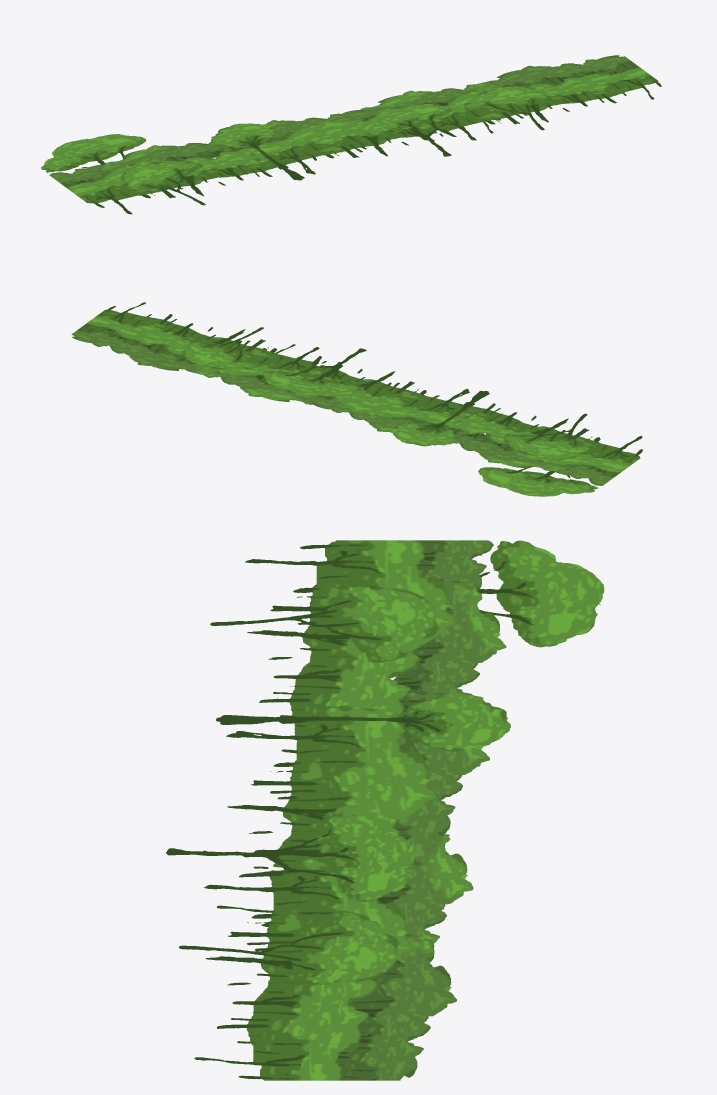
The model's file is forest.FBX.
3 views of the same model, one above another, from view 1: azimuth 30°, elevation 25°; view 2: azimuth 150°, elevation 25°; view 3: azimuth 270°, elevation 25° (orthographic). The views are drawn at different scales.
Visible parts, largest first — view 1: Plane001; view 2: Plane001; view 3: Plane001.
Boxes of the visible parts, left/top/right/bottom form: Plane001: left=41, top=55, right=661, bottom=214; Plane001: left=71, top=302, right=642, bottom=496; Plane001: left=166, top=540, right=604, bottom=1080.
Size of the model in its own units: 120 by 3.11e-15 by 50.79.
Materials: 1 (1 with a texture image).
